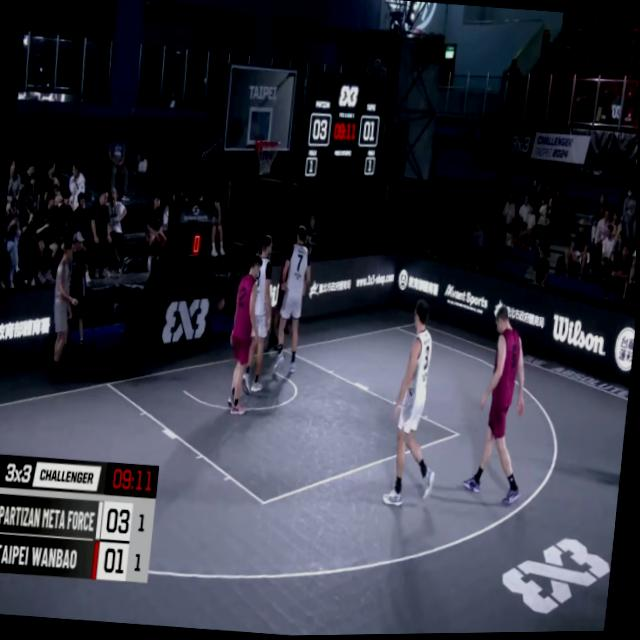hoop: (252, 135, 283, 179)
player: (460, 300, 541, 517), (385, 300, 452, 513), (237, 232, 281, 397), (223, 253, 266, 419), (271, 226, 315, 384)
